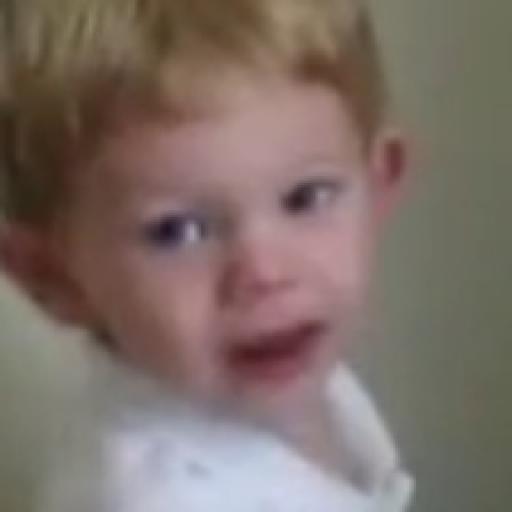Autism: (10, 7, 422, 418)
